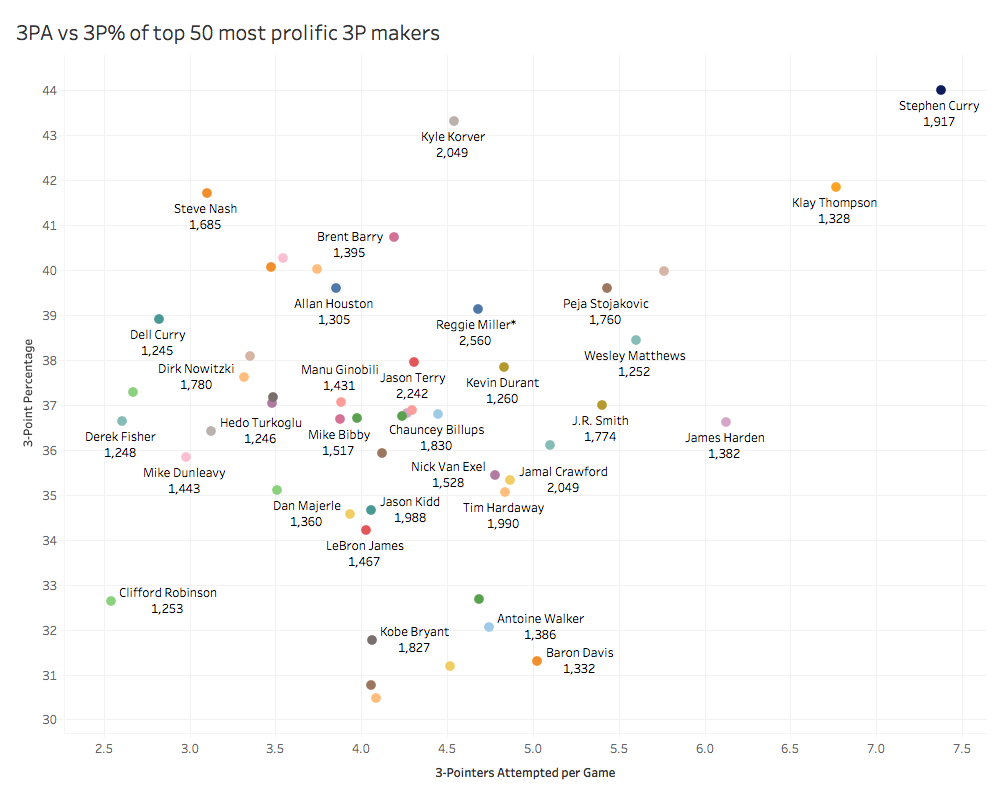

The dashboard page shown, as its layout file describes it:
{"tool":"tableau","page":{"name":"Dashboard Scatter - Top 50","canvas":[1000,800],"ordinal":3},"visuals":[{"type":"worksheet","title":"3PA vs 3P% of top 50 most prolific 3P makers","mark":"Automatic","rows":["Calculation_164592519228686337"],"cols":["3PA_per_G"],"box":[8,8,984,784]}]}

Visuals, with their boxes in screenshot pixels (x1, y1, x2, y2), scaled from the page's 1000x800 canvas onto the 1000x800 screenshot:
"3PA vs 3P% of top 50 most prolific 3P makers" worksheet: detection(8, 8, 992, 792)
